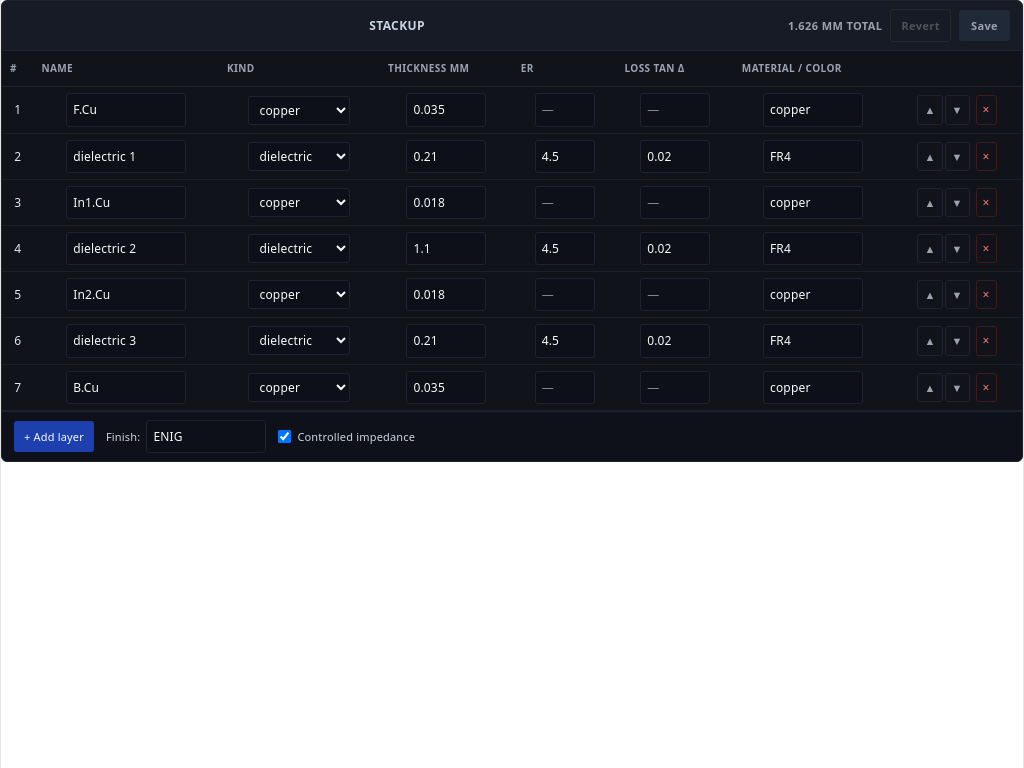
Test case: StackupEditor (M3-T-01) › Revert restores the project's persisted stackup
This screenshot has width=1024, height=768.
Replace the text in the field with test id "stackup-finish" with "OSP" at (206, 436), box [146,420,266,453]
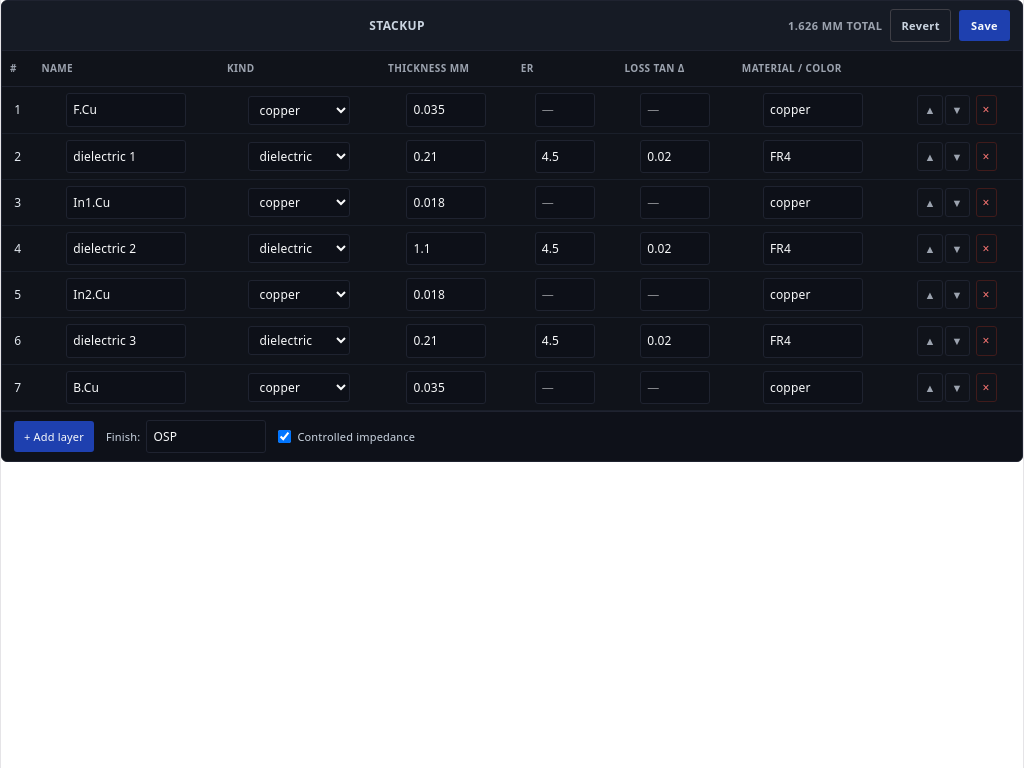
Click the button with test id "stackup-revert" at (921, 26), box [890,9,951,42]
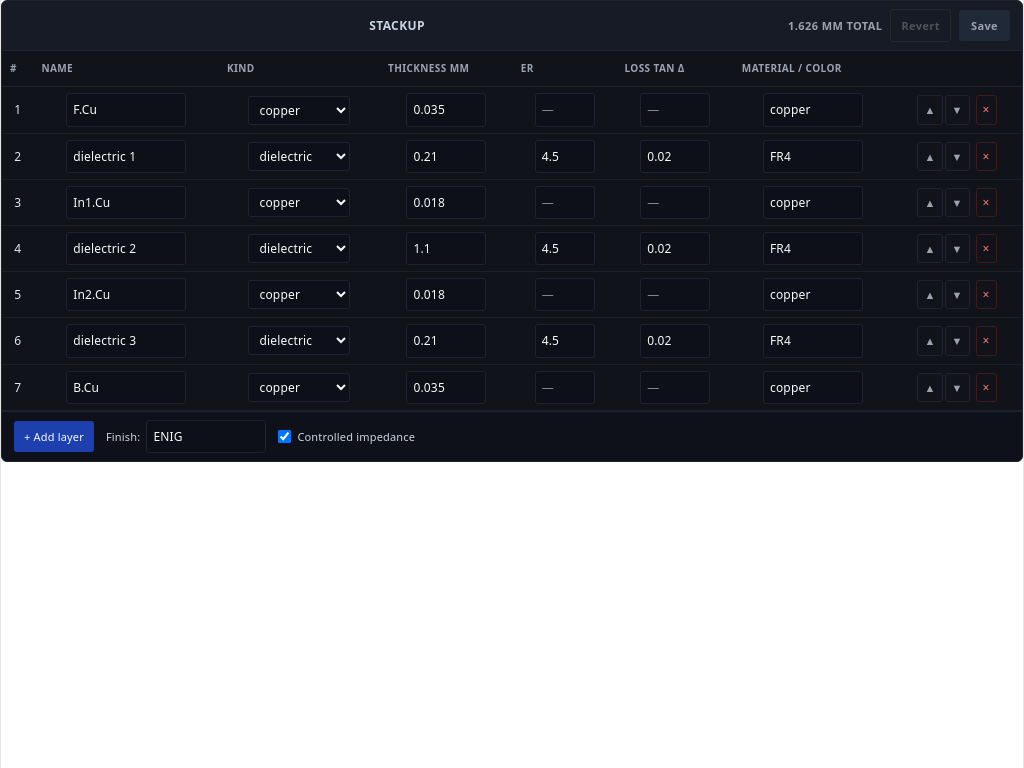
Check: the field with test id "stackup-finish" holds "ENIG", box [146,420,266,453]
